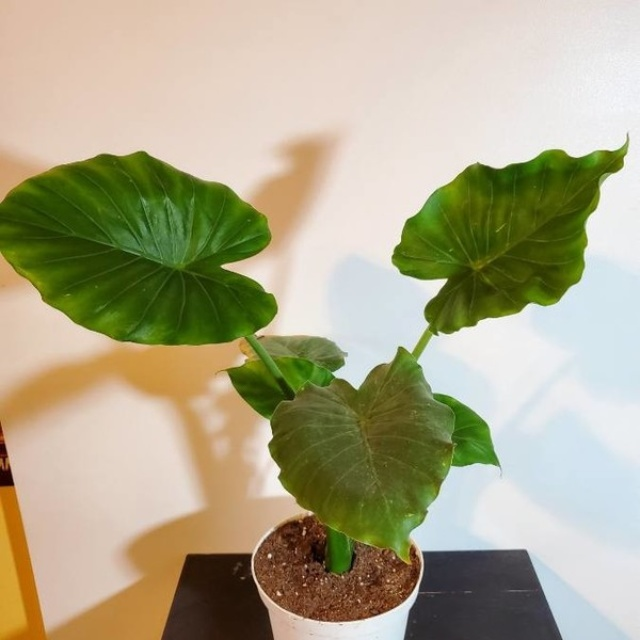obstacle: (0, 144, 621, 637)
